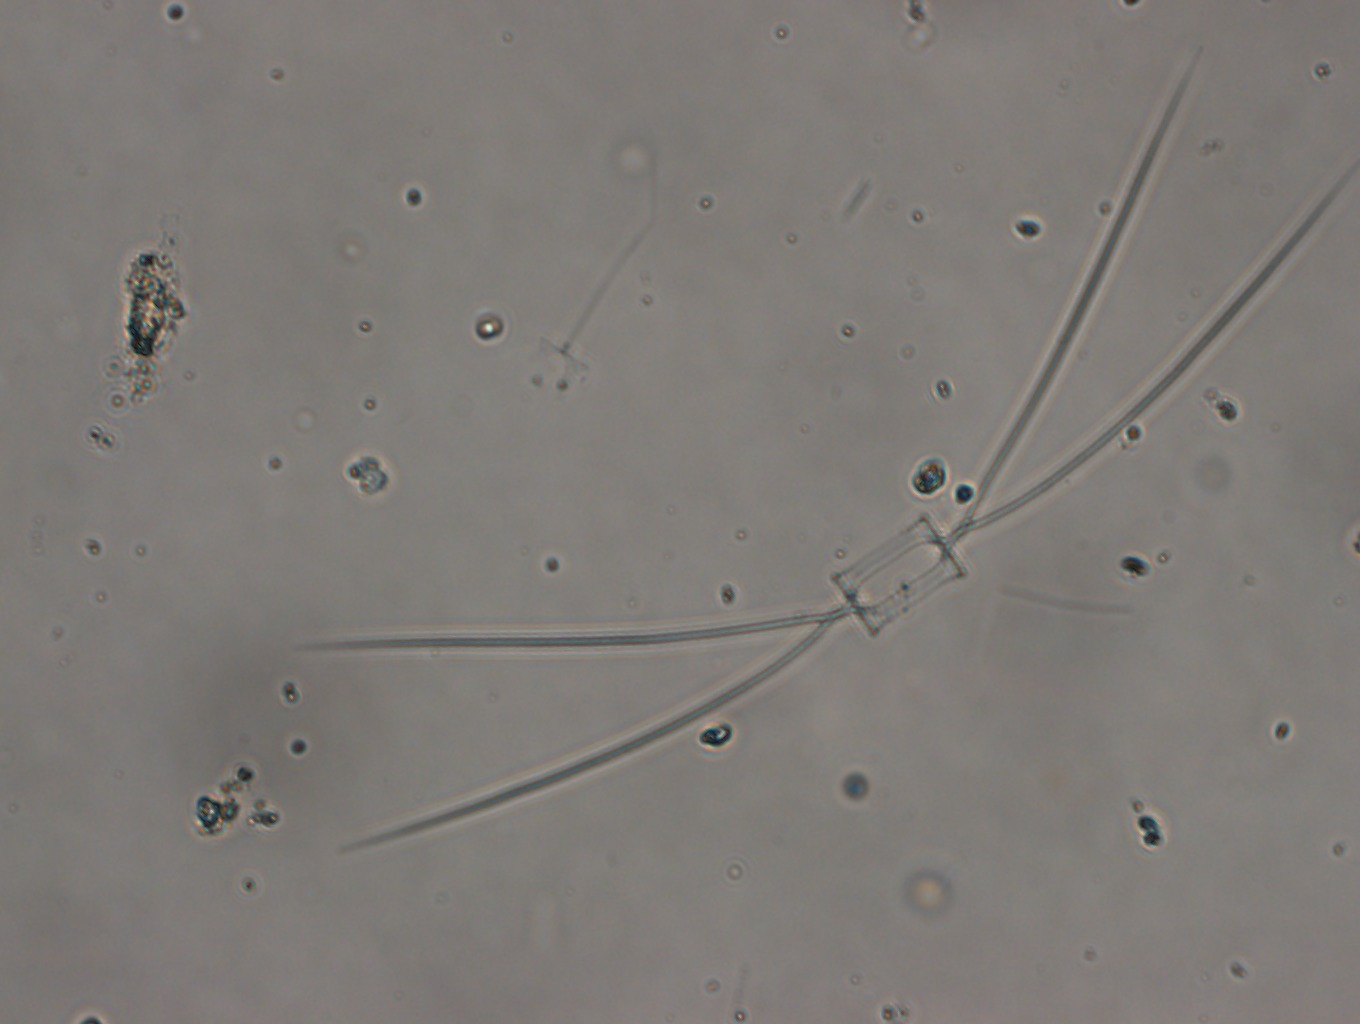chaetoceros: (305, 44, 1360, 845)
